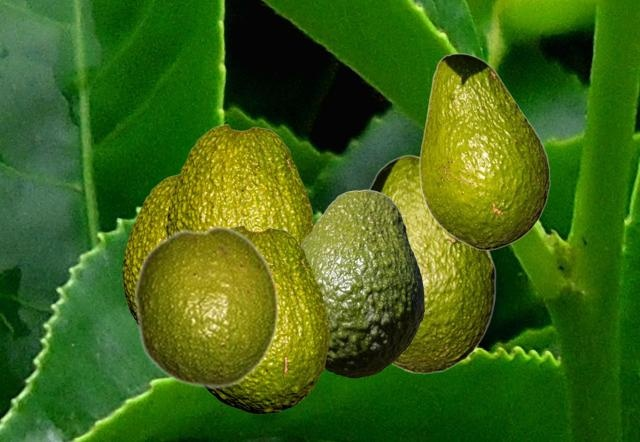avocado: (369, 154, 495, 373), (419, 53, 549, 249), (133, 224, 279, 389), (301, 189, 423, 377), (206, 225, 328, 413), (166, 124, 314, 244), (122, 174, 178, 322)
